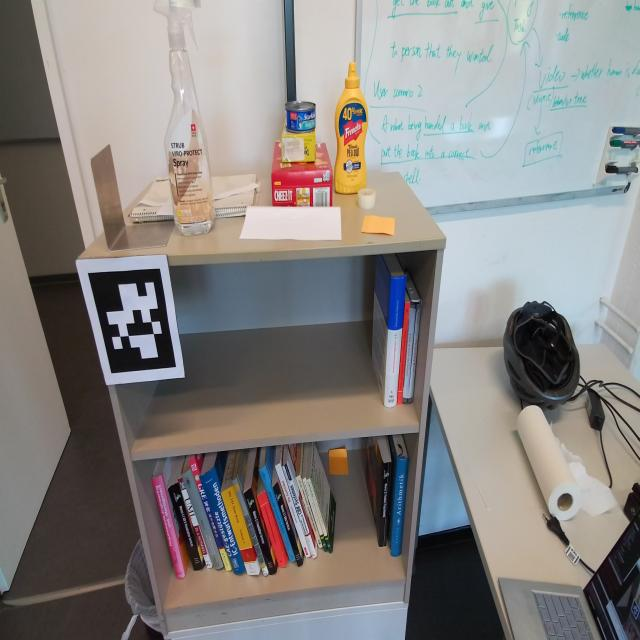Book Spine: (199, 466, 246, 574), (188, 457, 232, 571), (181, 468, 224, 569), (231, 476, 269, 576), (258, 463, 296, 562), (221, 486, 260, 575), (152, 475, 185, 579), (275, 463, 311, 558), (282, 461, 317, 558), (177, 478, 212, 568), (168, 482, 203, 571), (384, 276, 406, 408), (244, 488, 276, 575), (273, 482, 303, 567), (257, 492, 287, 568), (295, 474, 323, 548), (307, 478, 333, 554), (302, 477, 328, 552), (391, 457, 409, 557), (397, 302, 410, 404), (408, 303, 421, 403), (403, 304, 416, 404), (379, 462, 392, 547)
